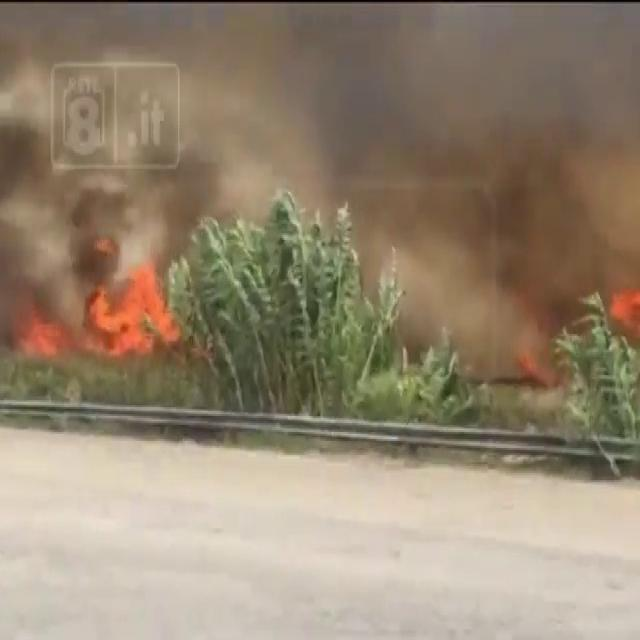Fire: (96, 273, 176, 351), (12, 316, 72, 360)
Smoke: (350, 34, 596, 222), (6, 172, 58, 282)
